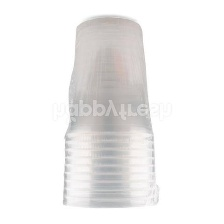glass: (56, 12, 163, 210)
